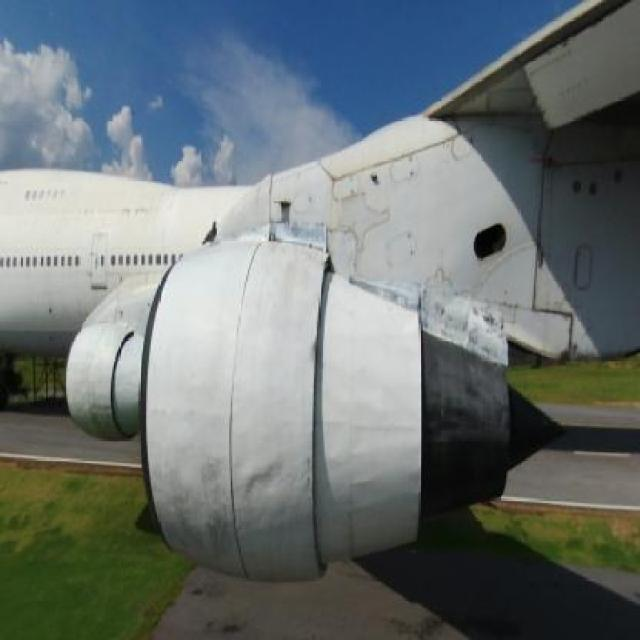Scartch: (175, 448, 238, 564)
